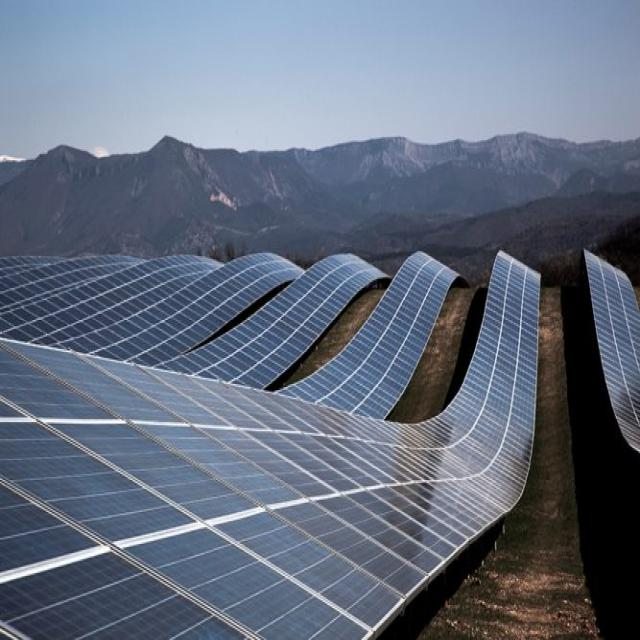clean-solar-panel: (1, 254, 540, 639)
